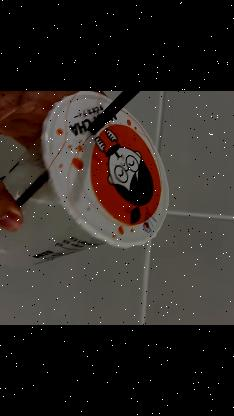Others: (0, 92, 170, 269)
